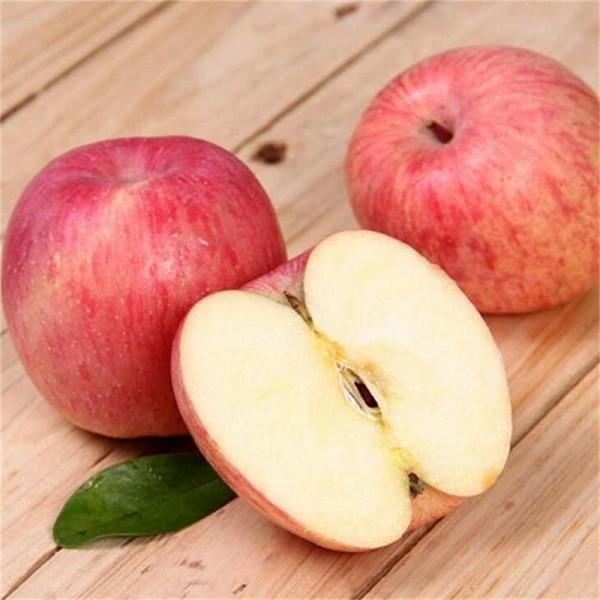apple: (2, 134, 291, 449), (348, 43, 600, 317)
